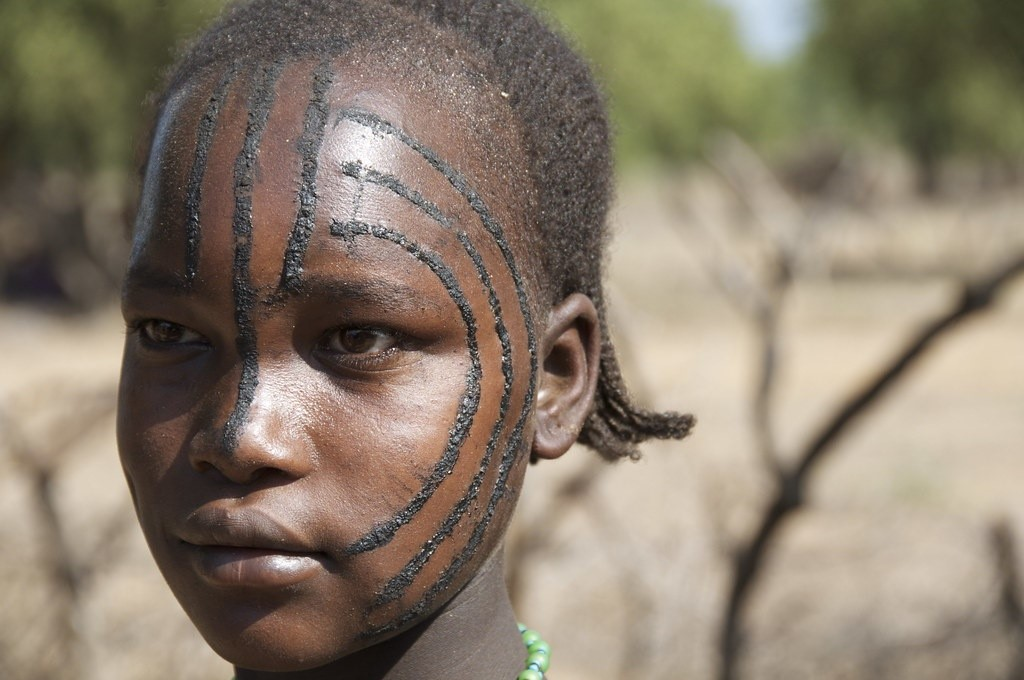face_no_mask: (114, 7, 602, 678)
